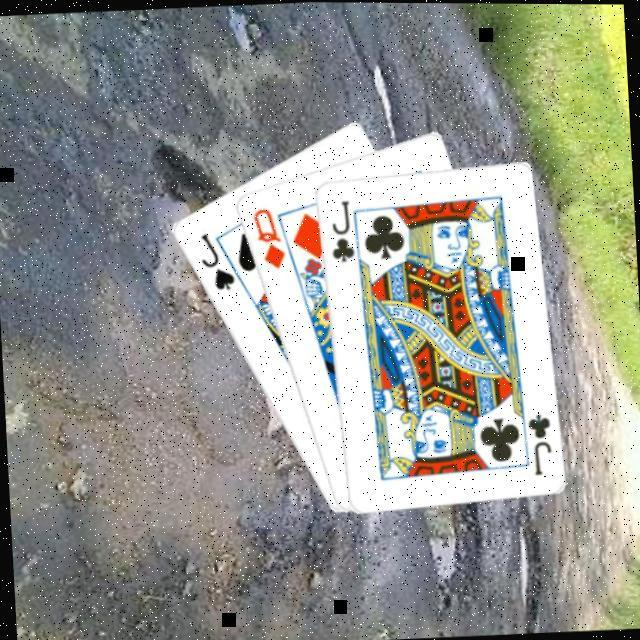JC: (326, 194, 359, 263), (525, 408, 557, 475)
JS: (196, 227, 239, 293)
QD: (250, 201, 290, 271)
